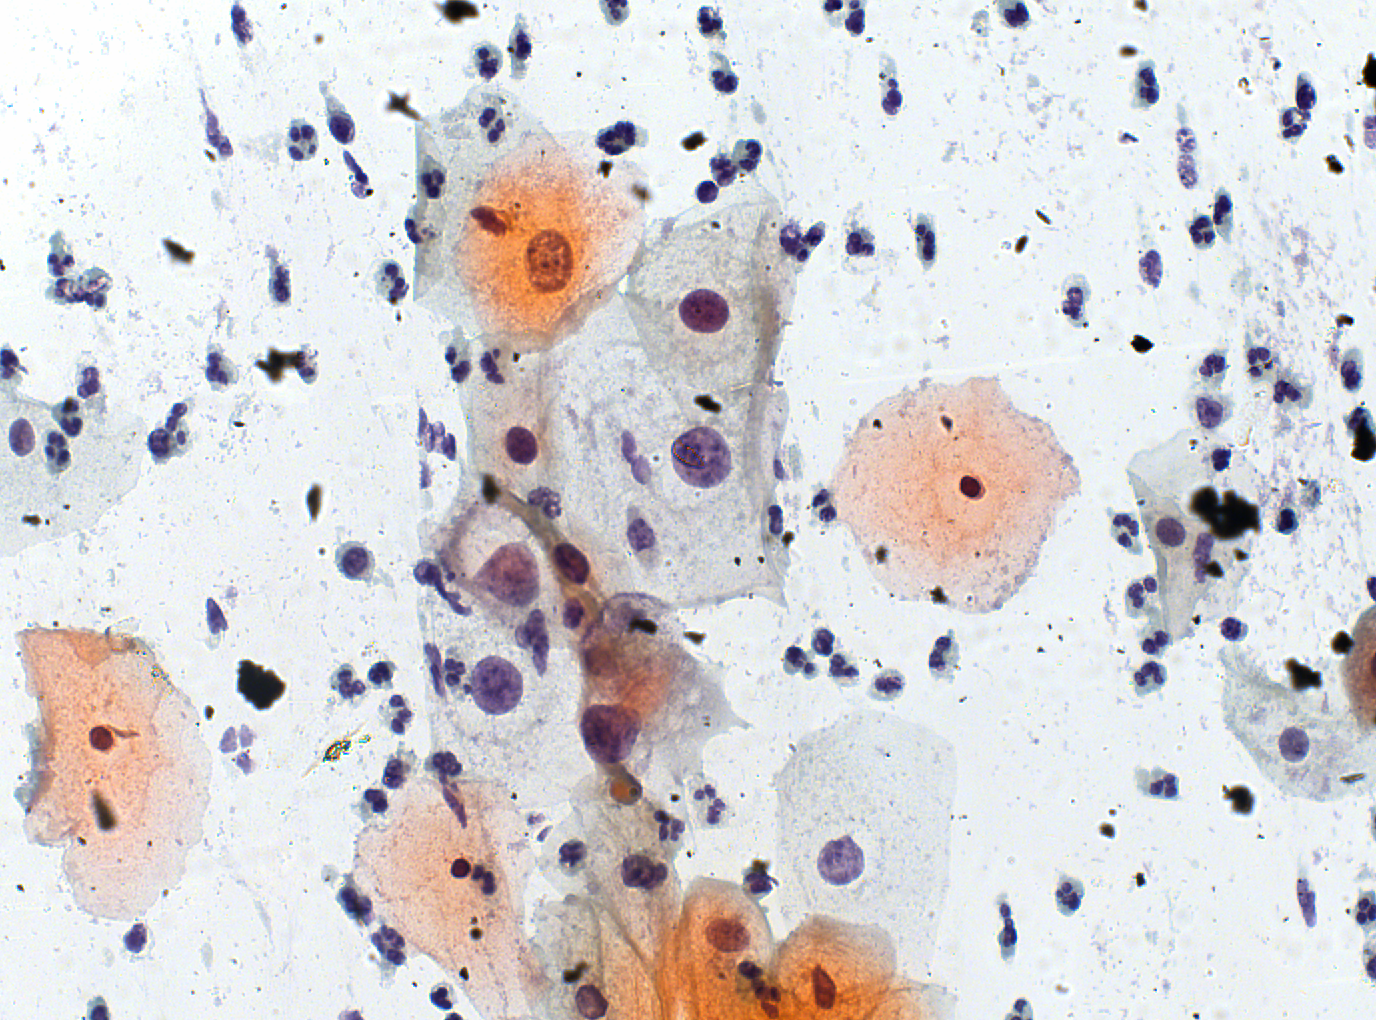Abn: (669, 423, 734, 489), (578, 702, 640, 769), (487, 538, 543, 607), (524, 225, 575, 298), (469, 652, 524, 718), (674, 284, 733, 335), (816, 832, 867, 888)
